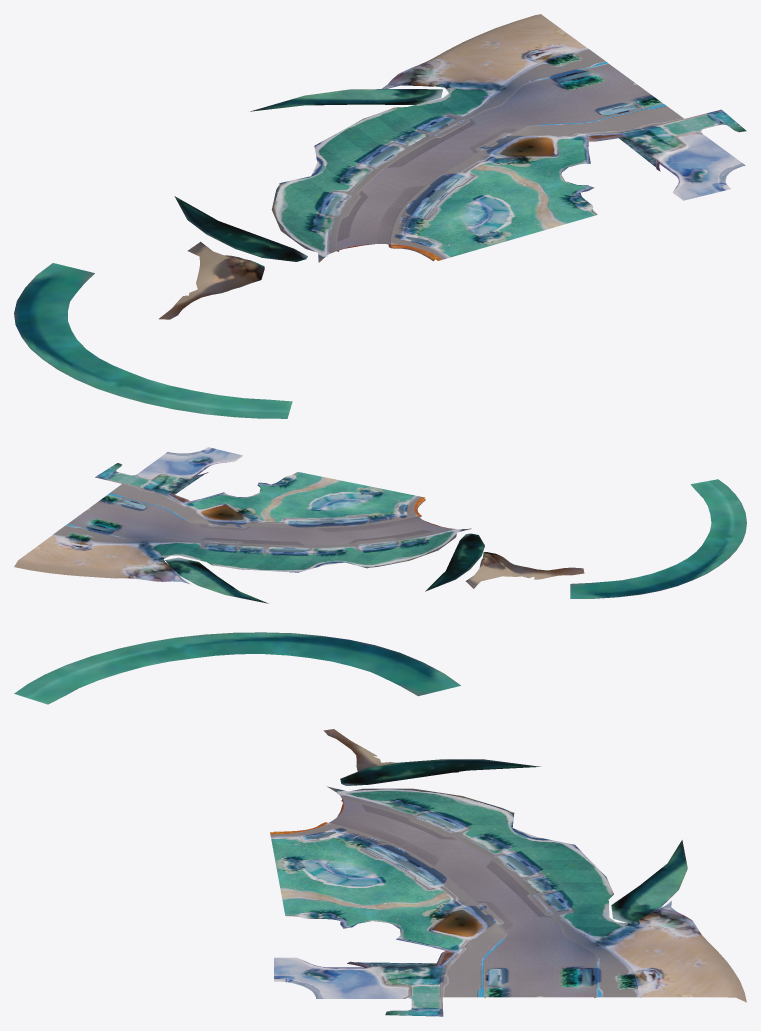
The model's file is pref_sm_beach_tech_hunt_bk_winter_Terrains_Part_04_lv0.fbx.
The picture shows the model from 3 angles, top to bottom: view 1: azimuth 30°, elevation 25°; view 2: azimuth 150°, elevation 25°; view 3: azimuth 270°, elevation 25°; orthographic projection. The views are drawn at different scales.
Parts seen in each view (by area): view 1: sm_beach_tech_hunt_bk_winter_Terrains_Part_04_lv0, sm_beach_tech_hunt_bk_winter_Terrains_Part_04a_lv0; view 2: sm_beach_tech_hunt_bk_winter_Terrains_Part_04_lv0, sm_beach_tech_hunt_bk_winter_Terrains_Part_04a_lv0; view 3: sm_beach_tech_hunt_bk_winter_Terrains_Part_04_lv0, sm_beach_tech_hunt_bk_winter_Terrains_Part_04a_lv0.
Part boxes in pixels (x1,y1,x2,y2): sm_beach_tech_hunt_bk_winter_Terrains_Part_04_lv0: (159,14,746,319); sm_beach_tech_hunt_bk_winter_Terrains_Part_04a_lv0: (14,263,292,418); sm_beach_tech_hunt_bk_winter_Terrains_Part_04_lv0: (14,447,584,603); sm_beach_tech_hunt_bk_winter_Terrains_Part_04a_lv0: (570,479,746,598); sm_beach_tech_hunt_bk_winter_Terrains_Part_04_lv0: (270,729,746,1016); sm_beach_tech_hunt_bk_winter_Terrains_Part_04a_lv0: (14,632,460,704).
Bounding box in the file's own units: 112 × 3.52 × 90.51.
